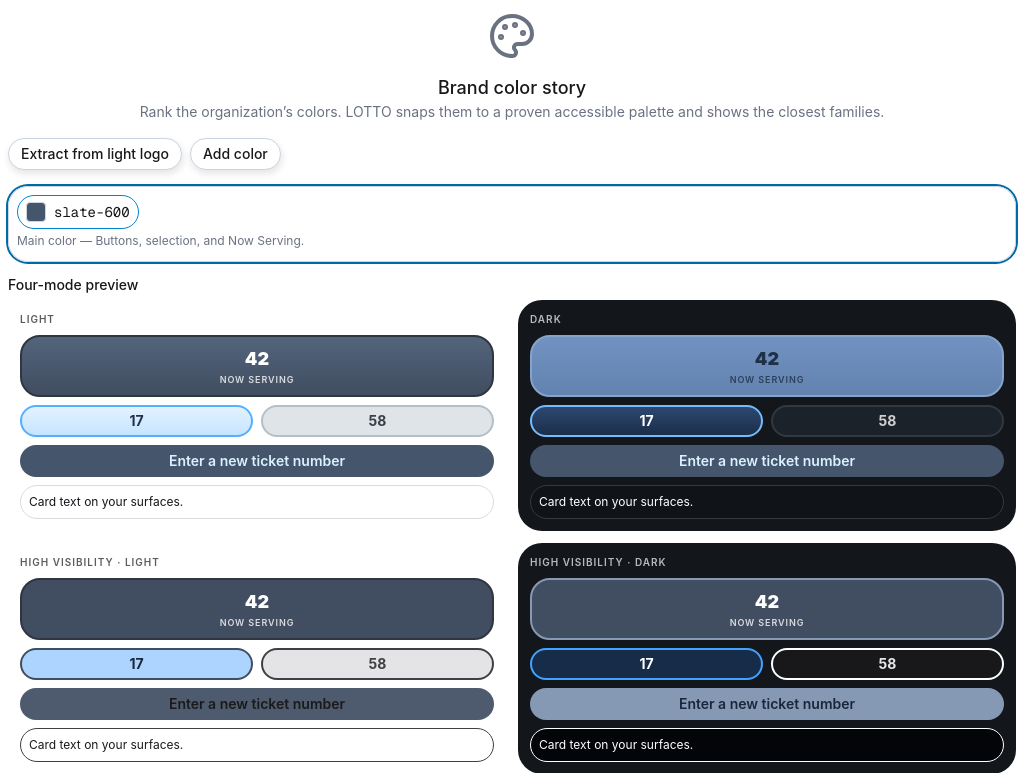
Test case: Appearance color-story parity › uses FEED's fixed-slot add/clear flow without shifting roles
expect the text "Main color — Buttons, selection, and Now Serving." is shown: met, box [17, 233, 304, 248]
expect the text "Accent — Hover" is not shown: met
Step 1. Click the button "Add color" → (235, 154), box [190, 138, 281, 170]
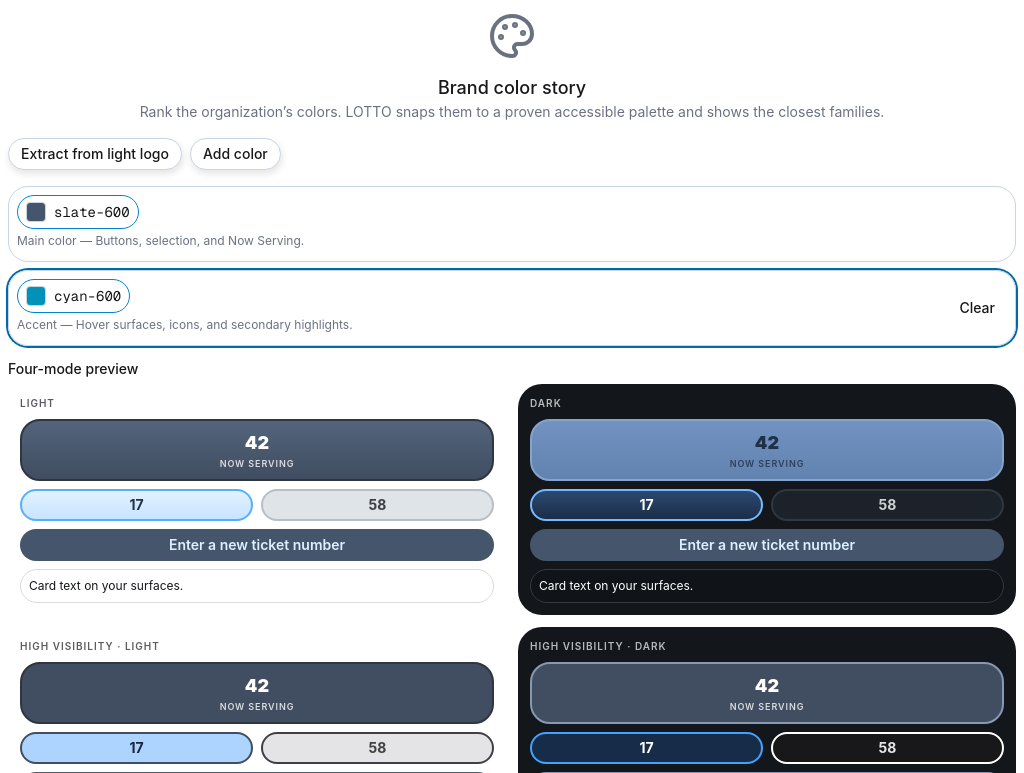
expect the text "Accent — Hover surfaces, icons, and secondary highlights." is shown: met, box [17, 317, 353, 332]
expect the number of buttons "Clear " is 1: met
Step 2. Click the button with aria-label "Clear Accent" → (977, 308), box [948, 292, 1007, 324]
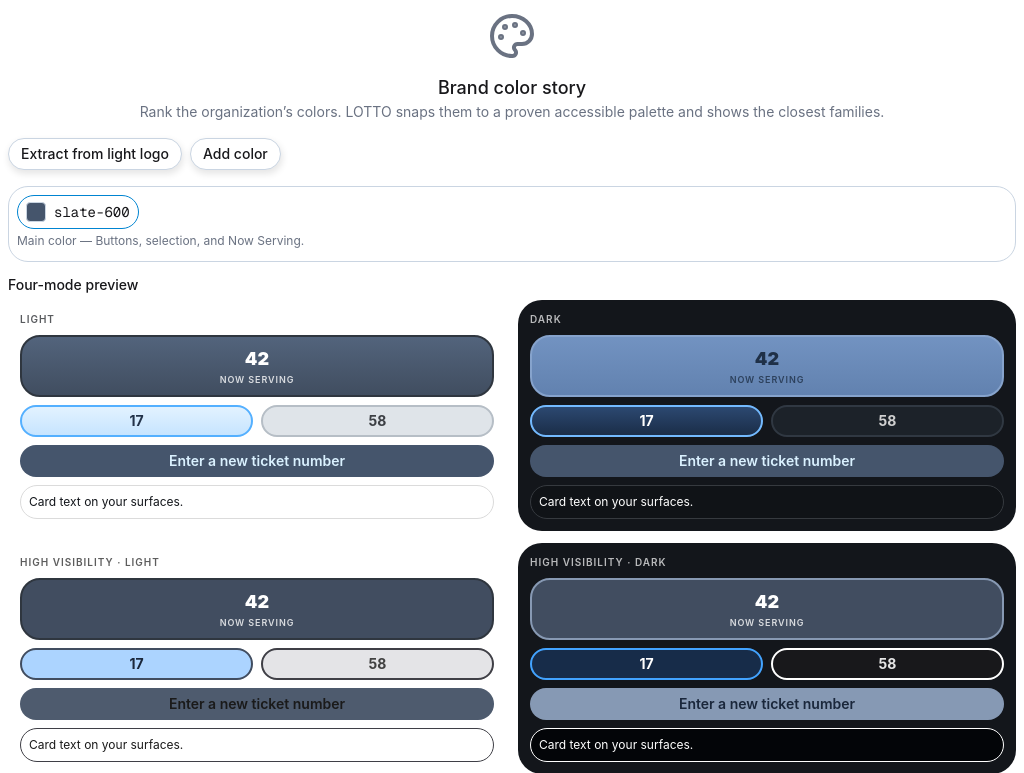
expect the text "Main color — Buttons, selection, and Now Serving." is shown: met, box [17, 233, 304, 248]
expect the text "Accent — Hover" is gone: met
